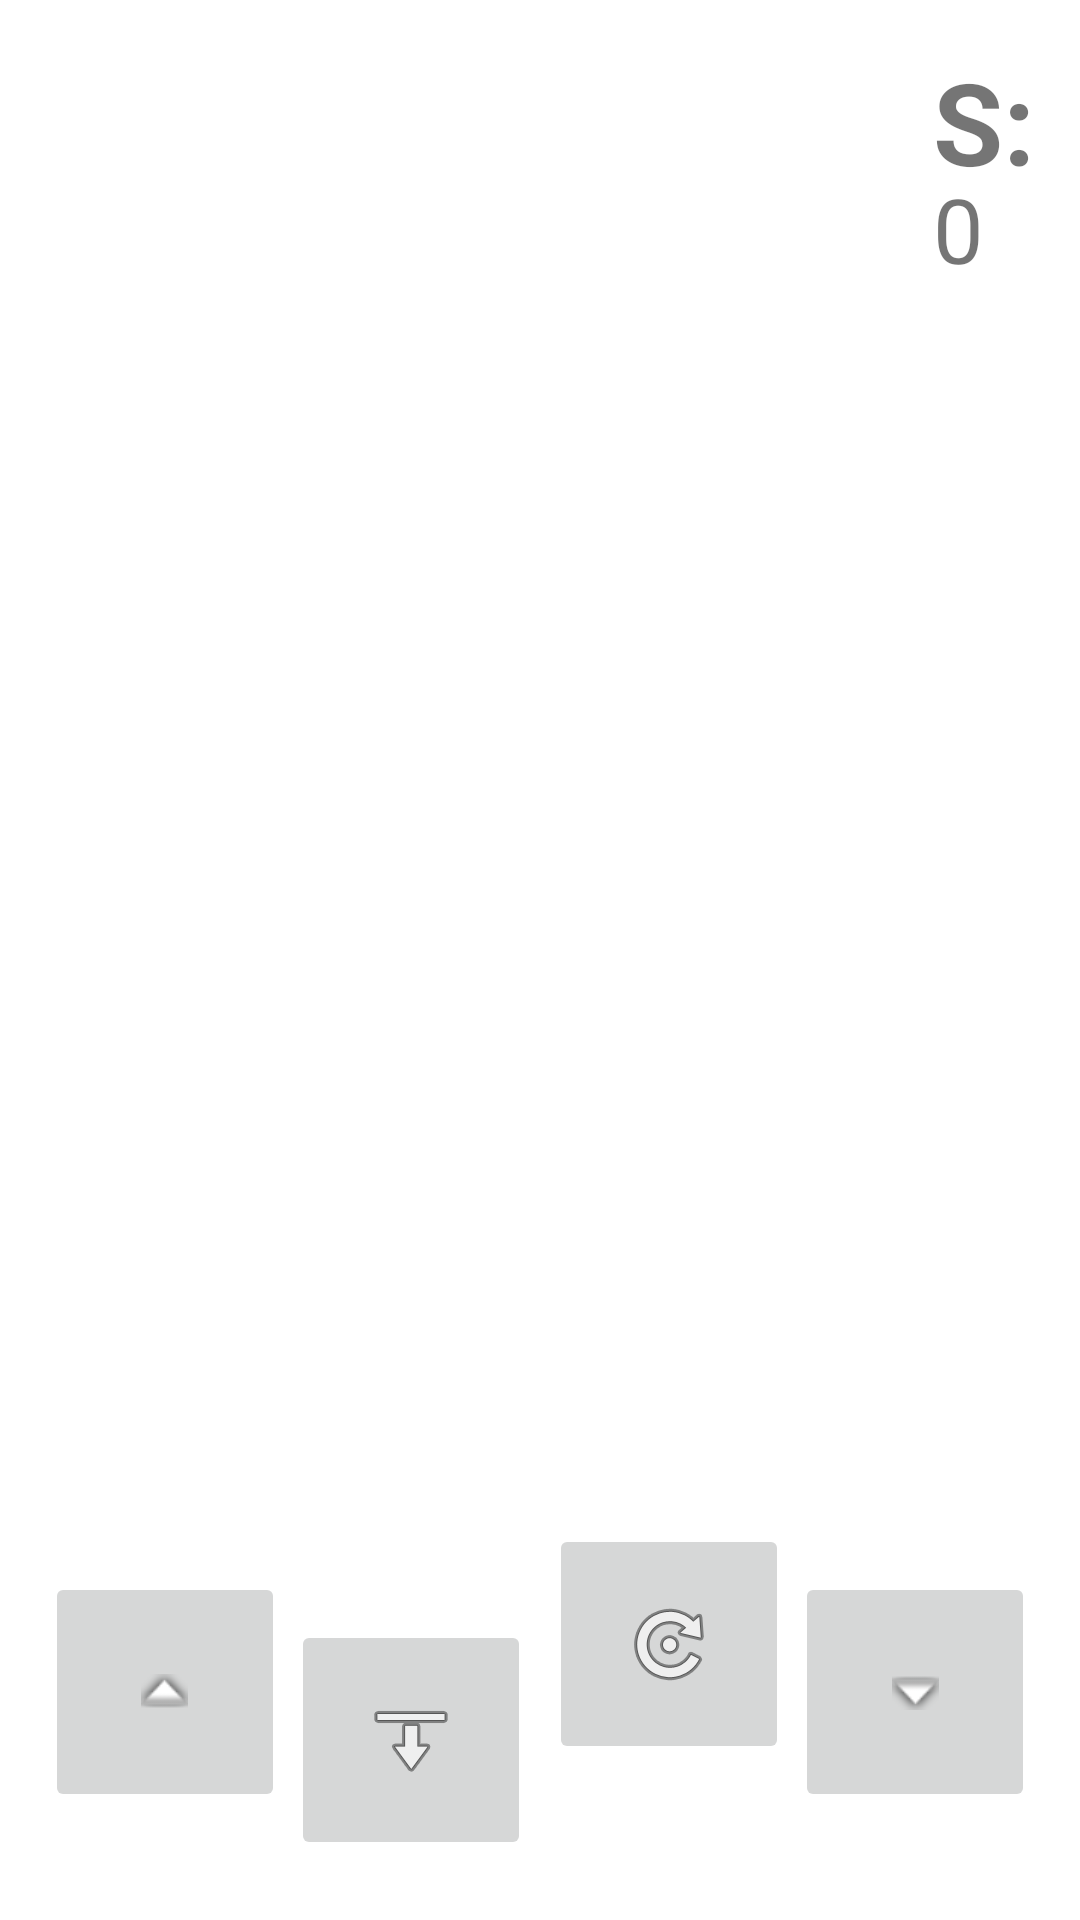

Where icons sit on this 1080 x 1920 app screen, as [x1=x1, y1=y1, x2=x2, y2=y2]:
rotate: [x1=561, y1=1542, x2=777, y2=1746]
